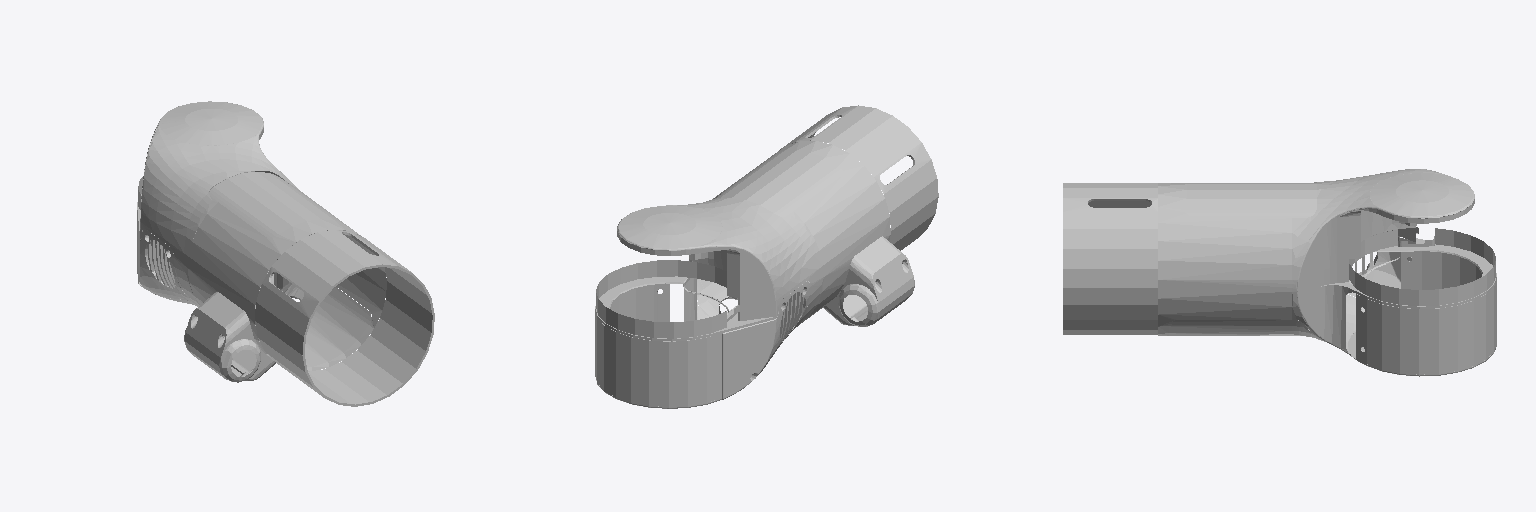
The model's file is RightShoulderYawLink.obj.
3 views of the same model, side by side, from view 1: azimuth 30°, elevation 25°; view 2: azimuth 150°, elevation 25°; view 3: azimuth 270°, elevation 25° (orthographic).
Size of the model in its own units: 0.1203 by 0.0987 by 0.2468.